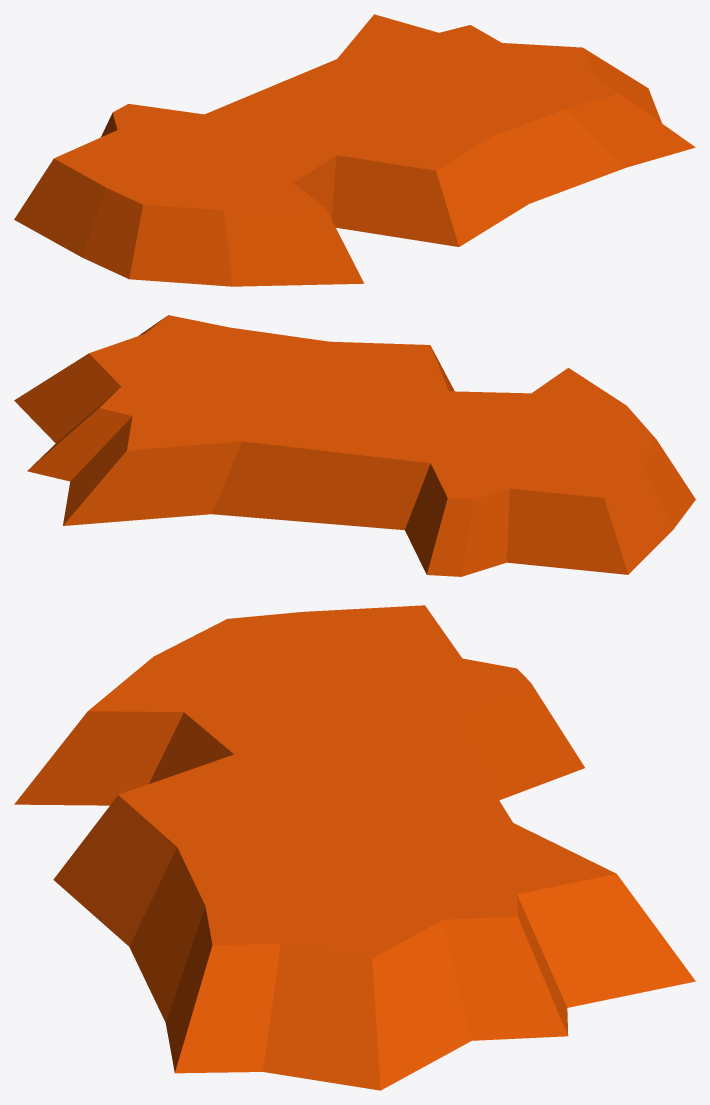
The model's file is magic_orange.fbx.
3 views of the same model, one above another, from view 1: azimuth 30°, elevation 25°; view 2: azimuth 150°, elevation 25°; view 3: azimuth 270°, elevation 25° (orthographic). The views are drawn at different scales.
Parts seen in each view (by area): view 1: 실린더.001; view 2: 실린더.001; view 3: 실린더.001.
Boxes of the visible parts, x1,y1,x2,y2 form: 실린더.001: (14,14,695,286); 실린더.001: (14,315,695,576); 실린더.001: (14,605,695,1090).
Bounding box in the file's own units: 253 × 23.6 × 172.
